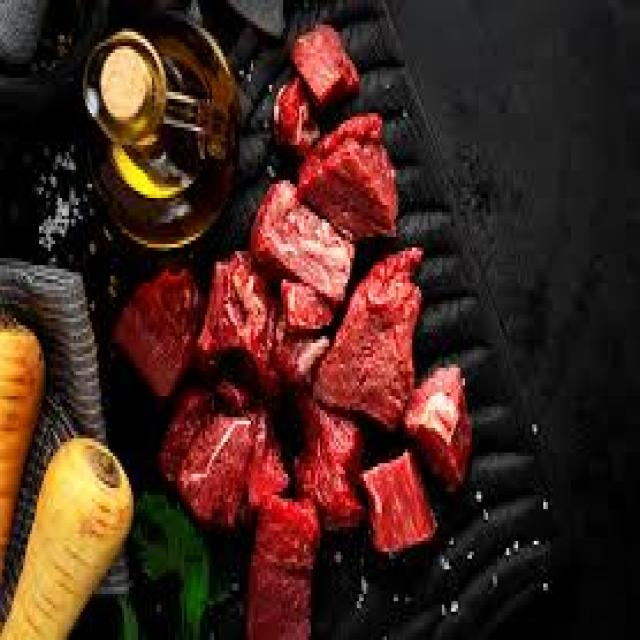Beef: (290, 110, 414, 239), (197, 248, 311, 388), (104, 260, 206, 413), (328, 247, 410, 415), (256, 173, 358, 303), (164, 407, 275, 522), (250, 495, 330, 640), (336, 451, 454, 546), (283, 22, 371, 105)
